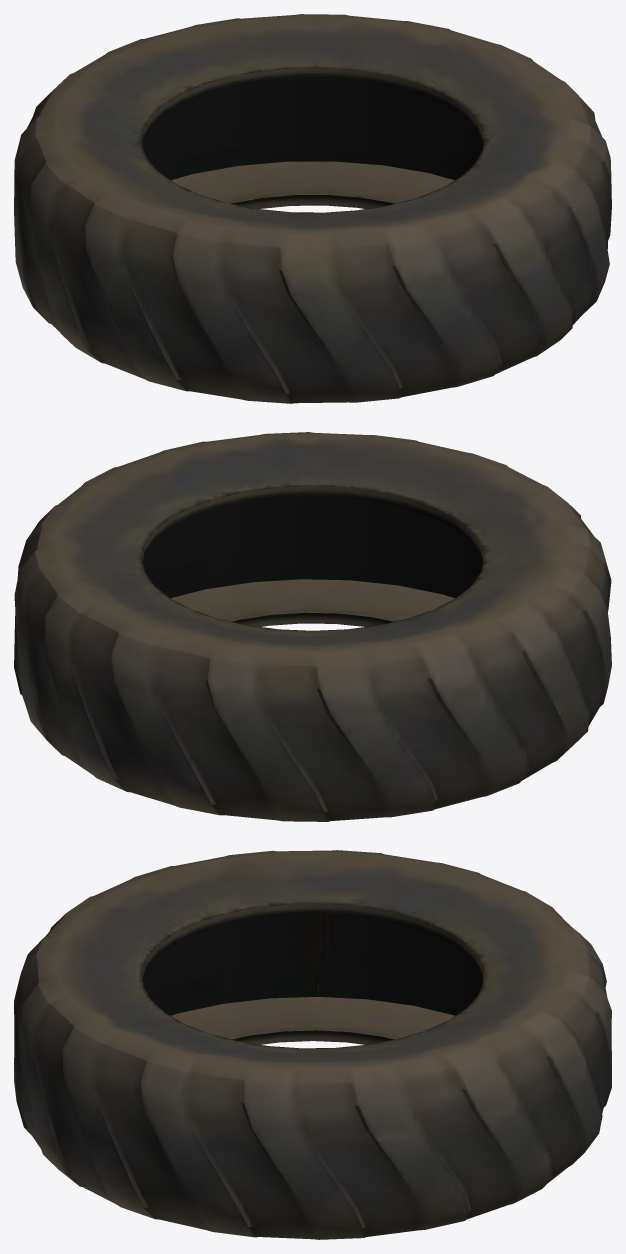
The picture shows the model from 3 angles, top to bottom: view 1: azimuth 30°, elevation 25°; view 2: azimuth 150°, elevation 25°; view 3: azimuth 270°, elevation 25°; orthographic projection.
Visible parts, largest first — view 1: body0_model0_lod0_mesh0; view 2: body0_model0_lod0_mesh0; view 3: body0_model0_lod0_mesh0.
Boxes of the visible parts, x1,y1,x2,y2 form: body0_model0_lod0_mesh0: (14,14,611,403); body0_model0_lod0_mesh0: (14,432,611,821); body0_model0_lod0_mesh0: (14,850,611,1239).
Bounding box in the file's own units: 129 × 40 × 129.
1 material, 1 textured.
